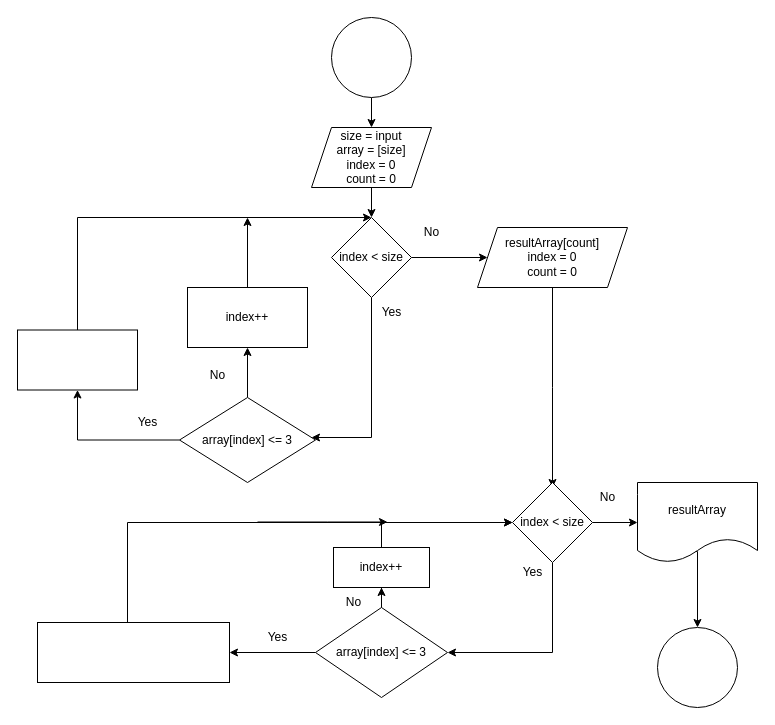
The diagram is 775 pixels wide and 725 high, and some of its shapes have lost their labels. The centre of each missing label's shape, as x and y in pixels:
"End" belongs at [697,667].
"index++ count++" belongs at [77,359].
"resultArray[count] = array[index] count++ index++" belongs at [133,652].
"Start" belongs at [371,57].
